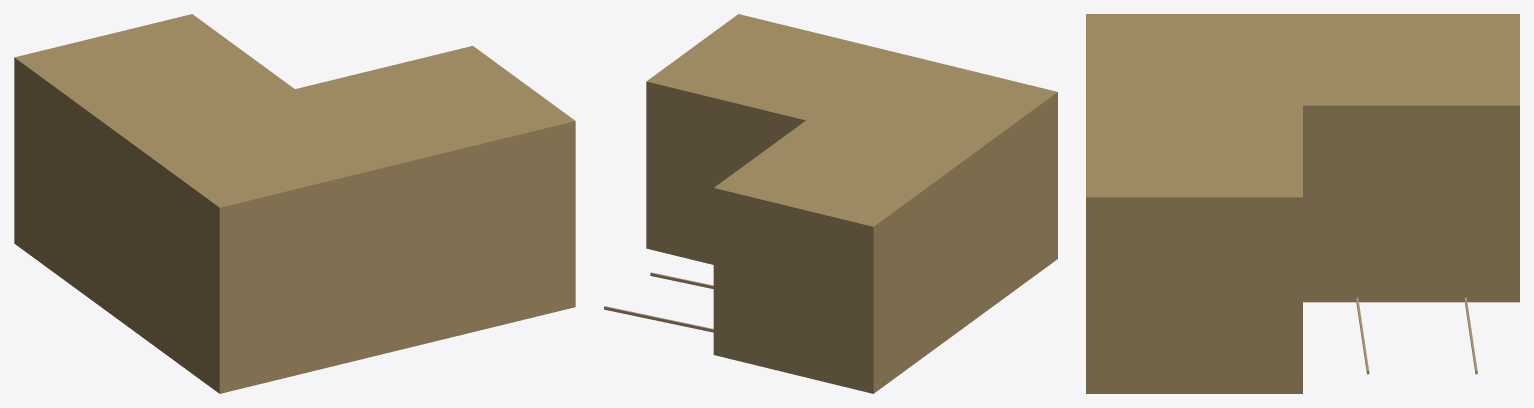
The model's file is terrain-sand-inner-corner.lod0.glb.
3 views of the same model, side by side, from view 1: azimuth 30°, elevation 25°; view 2: azimuth 150°, elevation 25°; view 3: azimuth 270°, elevation 25° (orthographic). The views are drawn at different scales.
Parts seen in each view (by area): view 1: terrain-sand-inner-corner__body; view 2: terrain-sand-inner-corner__body; view 3: terrain-sand-inner-corner__body.
Boxes of the visible parts, x1,y1,x2,y2 form: terrain-sand-inner-corner__body: (14, 14, 575, 393); terrain-sand-inner-corner__body: (604, 14, 1057, 393); terrain-sand-inner-corner__body: (1086, 14, 1519, 393).
Size of the model in its own units: 2 by 1 by 2.
